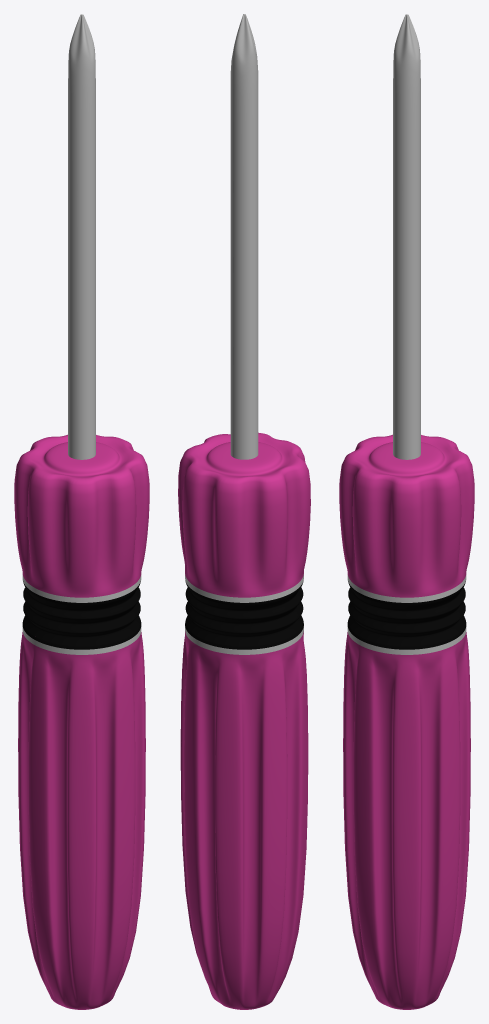
Rendered from Screwdriver.obj.
3 renders of one model, left to right at view 1: azimuth 90°, elevation 25°; view 2: azimuth 210°, elevation 25°; view 3: azimuth 270°, elevation 25°, orthographic.
Parts seen in each view (by area): view 1: Holder, Shaft; view 2: Holder, Shaft; view 3: Holder, Shaft.
Boxes of the visible parts, x1,y1,x2,y2 form: Holder: (14,434,149,1009); Shaft: (68,14,95,459); Holder: (178,432,310,1009); Shaft: (230,14,258,459); Holder: (339,434,474,1009); Shaft: (393,14,420,459).
Bounding box in the file's own units: 2.11 × 16.99 × 2.11.
